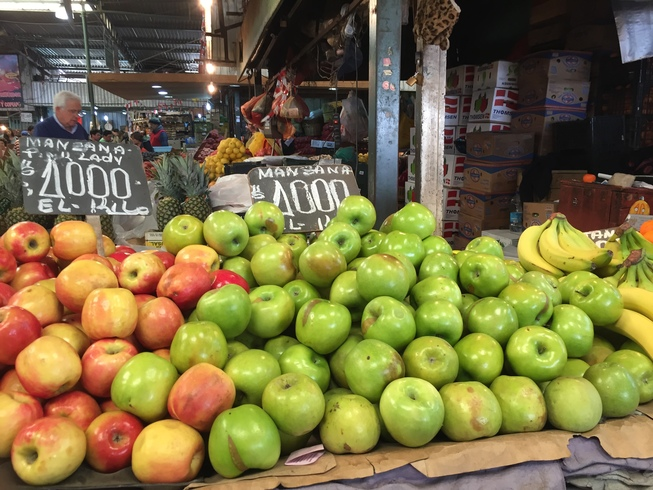precio: (20, 135, 154, 218), (249, 165, 365, 236)
